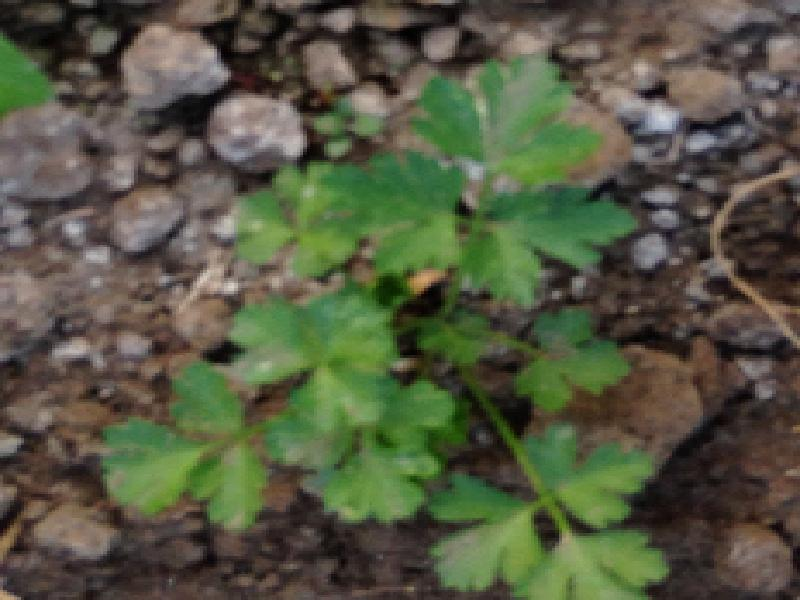radish: (87, 51, 668, 599)
